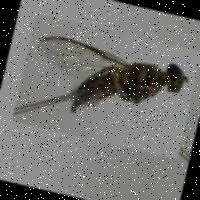Oriental-fruit-fly: (11, 13, 200, 158)
